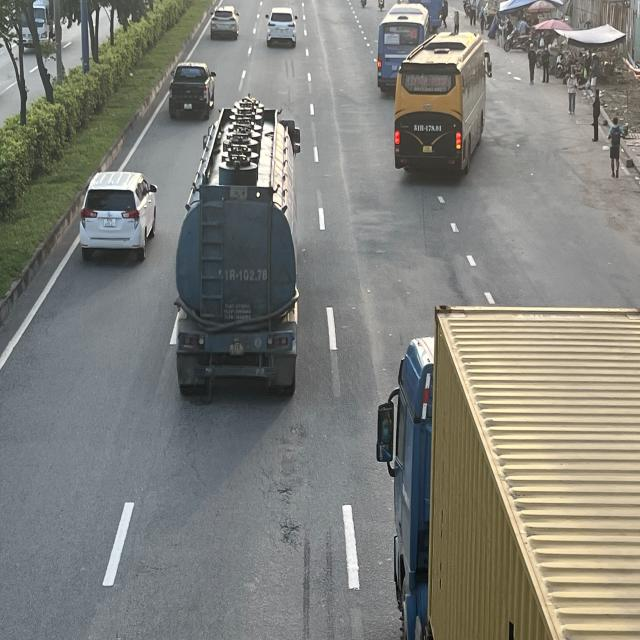car: (82, 170, 162, 263), (171, 62, 219, 120), (266, 8, 300, 48), (210, 6, 240, 42)
coach: (394, 36, 491, 178), (377, 5, 427, 92)
container: (375, 296, 640, 636), (178, 101, 305, 398)
